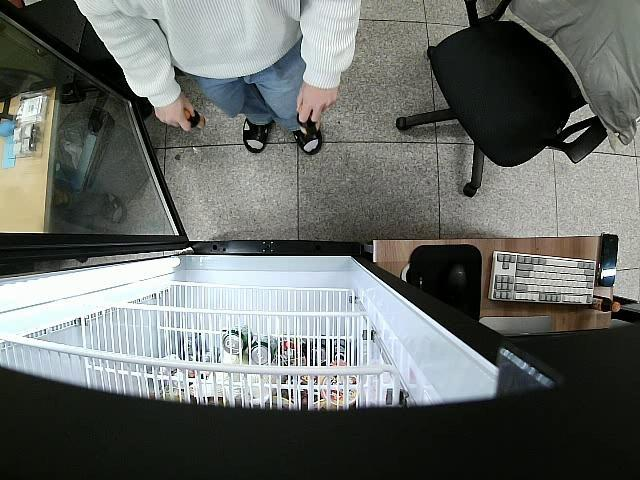17_vita500: (182, 108, 206, 130)
